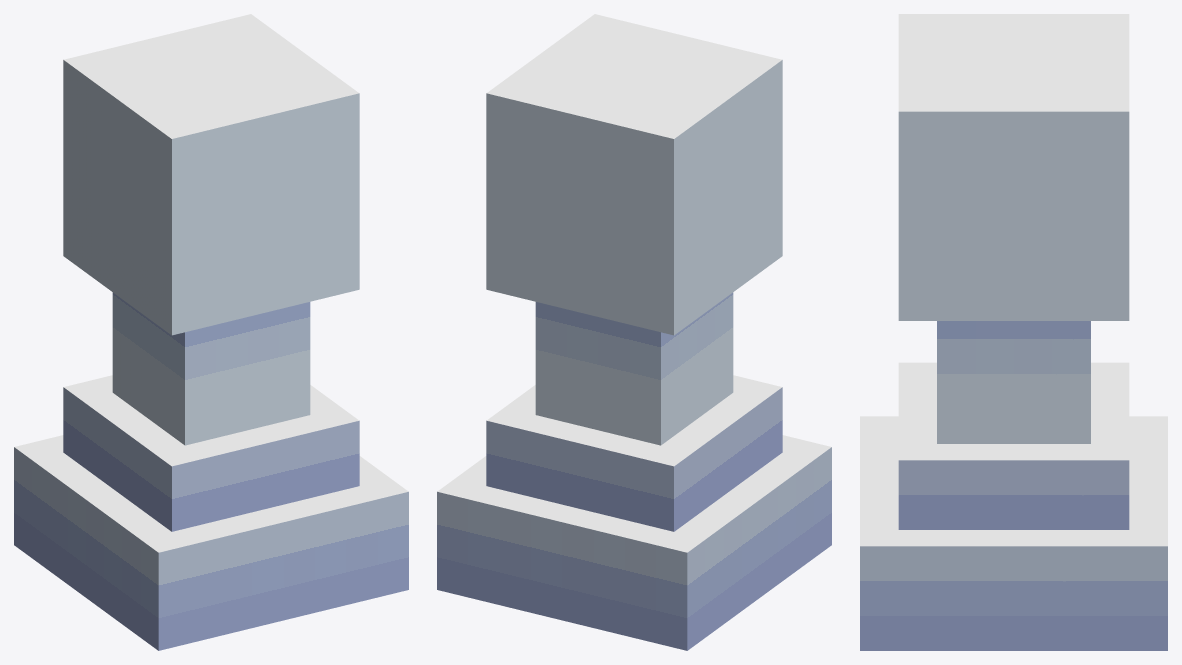
The model's file is Pawn White.gltf.
3 renders of one model, left to right at view 1: azimuth 30°, elevation 25°; view 2: azimuth 150°, elevation 25°; view 3: azimuth 270°, elevation 25°, orthographic. The views are drawn at different scales.
Parts seen in each view (by area): view 1: cube (×4); view 2: cube (×4); view 3: cube (×4).
Boxes of the visible parts, bbox=[...] form: cube (×4): bbox=[14, 14, 408, 650]; cube (×4): bbox=[437, 14, 831, 650]; cube (×4): bbox=[860, 14, 1167, 650].
Bounding box in the file's own units: 0.125 × 0.2344 × 0.125.
1 material, 1 textured.
